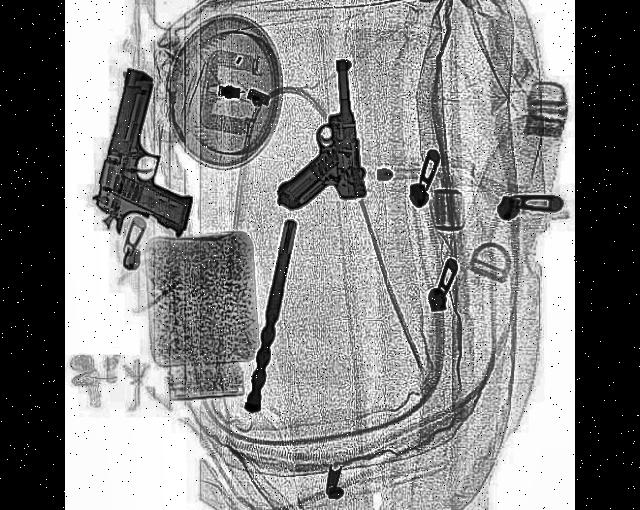Gun: (92, 63, 218, 258), (264, 50, 370, 214)
